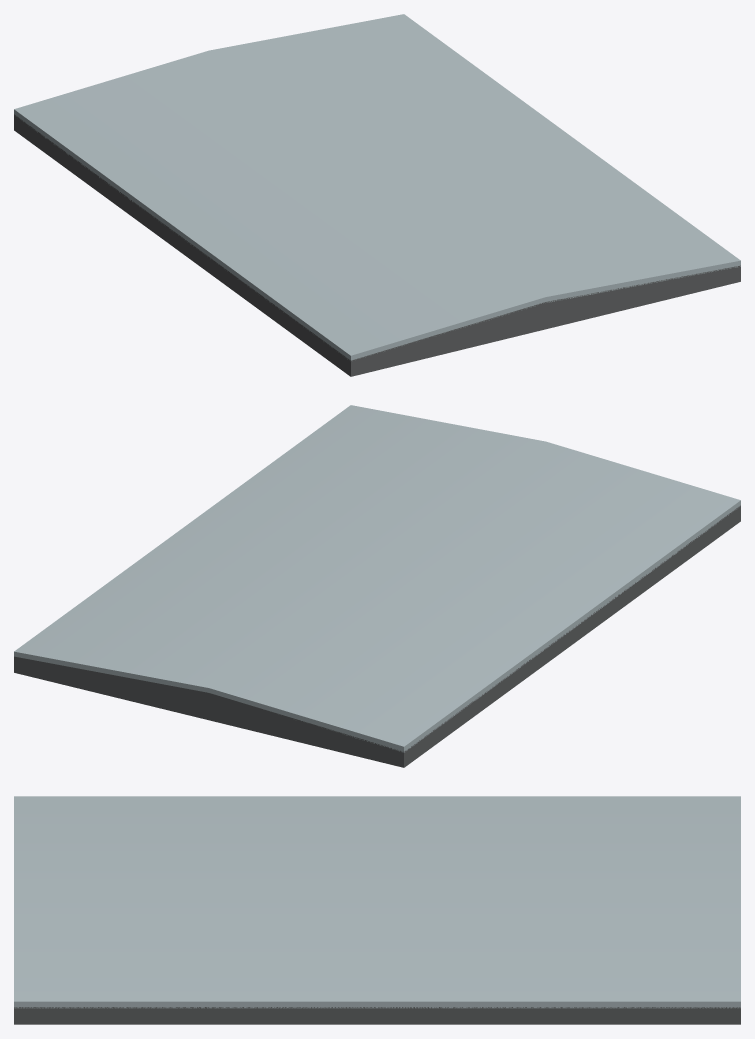
The model's file is aws_robomaker_warehouse_RoofB_01_visual.DAE.
The picture shows the model from 3 angles, top to bottom: view 1: azimuth 30°, elevation 25°; view 2: azimuth 150°, elevation 25°; view 3: azimuth 270°, elevation 25°; orthographic projection. The views are drawn at different scales.
Parts seen in each view (by area): view 1: aws_robomaker_warehouse_RoofB_01_visual; view 2: aws_robomaker_warehouse_RoofB_01_visual; view 3: aws_robomaker_warehouse_RoofB_01_visual.
Boxes of the visible parts, x1,y1,x2,y2 form: aws_robomaker_warehouse_RoofB_01_visual: [14, 14, 740, 376]; aws_robomaker_warehouse_RoofB_01_visual: [14, 405, 740, 767]; aws_robomaker_warehouse_RoofB_01_visual: [14, 796, 740, 1024].
Bounding box in the file's own units: 1398 × 2091 × 110.
1 material, 1 textured.
